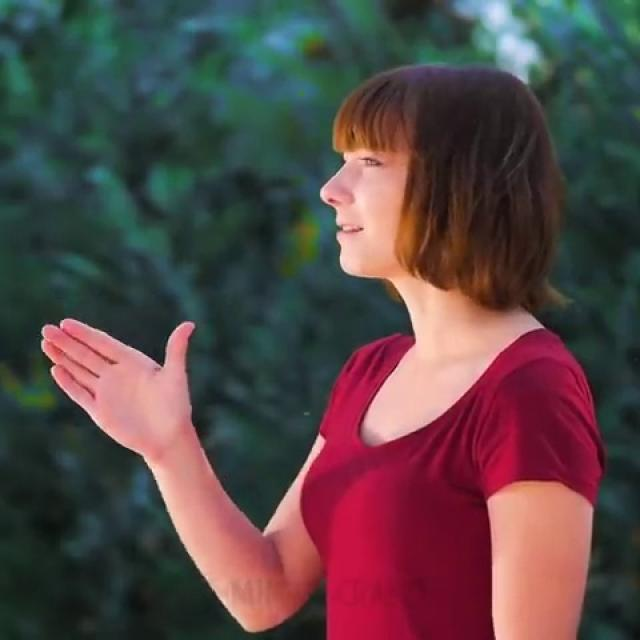not-gloved: (35, 303, 221, 467)
